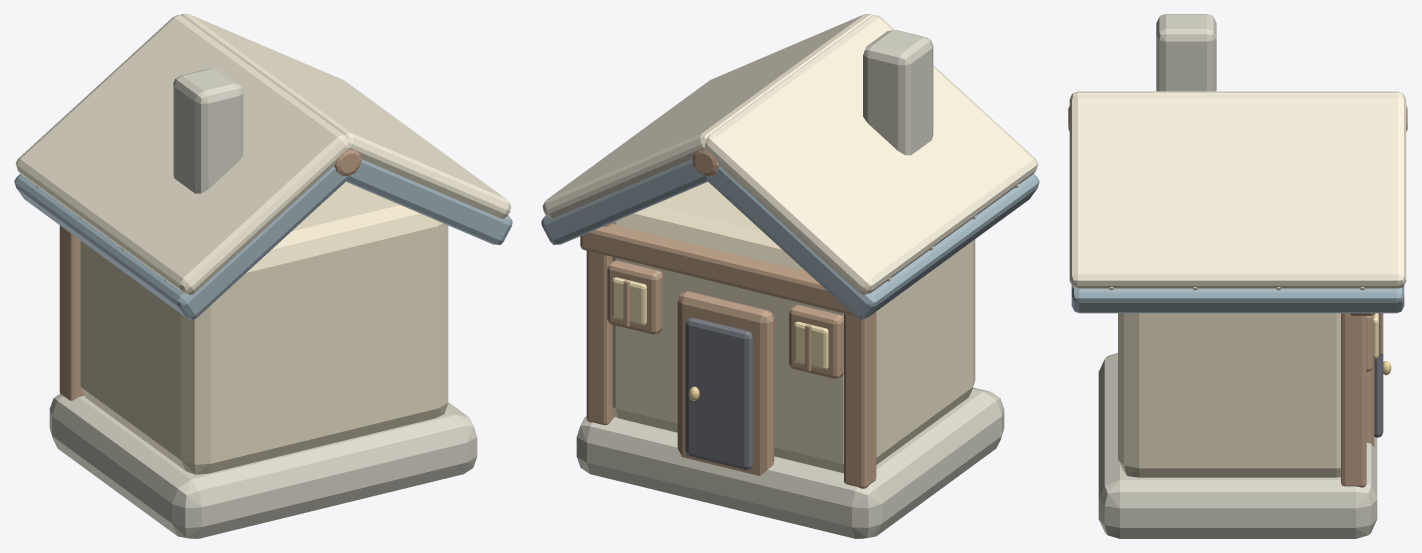
File: ridge_house.glb
3 views of the same model, side by side, from view 1: azimuth 30°, elevation 25°; view 2: azimuth 150°, elevation 25°; view 3: azimuth 270°, elevation 25° (orthographic).
Parts seen in each view (by area): view 1: Sculpt__Warm plaster, Sculpt__Ivory, Sculpt__Limestone, Sculpt__Roof ridge_house, Sculpt__Honey oak; view 2: Sculpt__Ivory, Sculpt__Warm plaster, Sculpt__Limestone, Sculpt__Honey oak, Sculpt__Roof ridge_house, Sculpt__Leather and sockets, Sculpt__Lantern glass; view 3: Sculpt__Ivory, Sculpt__Warm plaster, Sculpt__Limestone, Sculpt__Roof ridge_house, Sculpt__Honey oak, Sculpt__Leather and sockets.
Boxes of the visible parts, bbox=[...] form: Sculpt__Warm plaster: bbox=[80, 182, 448, 474]; Sculpt__Ivory: bbox=[15, 14, 511, 295]; Sculpt__Limestone: bbox=[49, 68, 477, 538]; Sculpt__Roof ridge_house: bbox=[14, 159, 512, 319]; Sculpt__Honey oak: bbox=[59, 149, 361, 400]; Sculpt__Ivory: bbox=[542, 14, 1038, 295]; Sculpt__Warm plaster: bbox=[612, 182, 975, 473]; Sculpt__Limestone: bbox=[576, 30, 1004, 538]; Sculpt__Honey oak: bbox=[580, 149, 876, 488]; Sculpt__Roof ridge_house: bbox=[541, 159, 1039, 319]; Sculpt__Leather and sockets: bbox=[685, 317, 752, 469]; Sculpt__Lantern glass: bbox=[612, 277, 828, 369]; Sculpt__Ivory: bbox=[1069, 91, 1406, 290]; Sculpt__Warm plaster: bbox=[1118, 313, 1340, 477]; Sculpt__Limestone: bbox=[1098, 14, 1377, 538]; Sculpt__Roof ridge_house: bbox=[1071, 286, 1404, 313]; Sculpt__Honey oak: bbox=[1068, 106, 1407, 487]; Sculpt__Leather and sockets: bbox=[1374, 313, 1383, 437].
Size of the model in its own units: 1.77 by 2.13 by 1.58.
